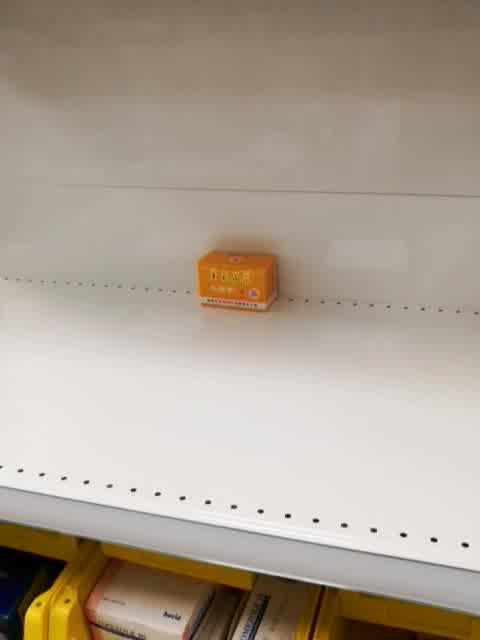jasminetea: (198, 249, 278, 314)
